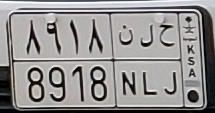1: (68, 18, 85, 104)
8: (88, 18, 108, 102), (26, 19, 45, 103)
9: (46, 20, 66, 102)
J: (158, 23, 178, 97)
L: (140, 23, 158, 96)
N: (118, 24, 137, 97)
